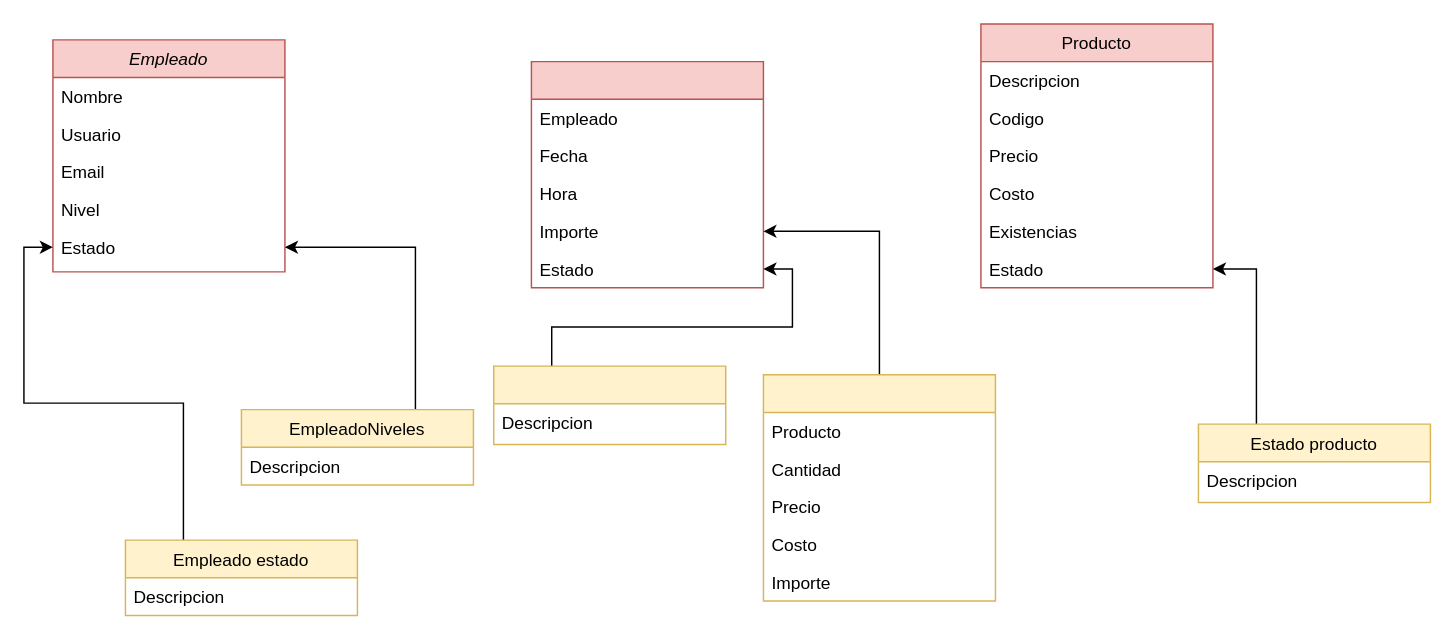
Image size: 1454x639. Some labels were removed from this diagram. The shapes that lost their labels are listed below. From the top down, each one's box as (x1, y1, x2, y2) in pixels, then its label:
(530, 60, 763, 288): Venta
(492, 365, 726, 444): Estado de venta
(762, 373, 995, 601): Detalle venta
